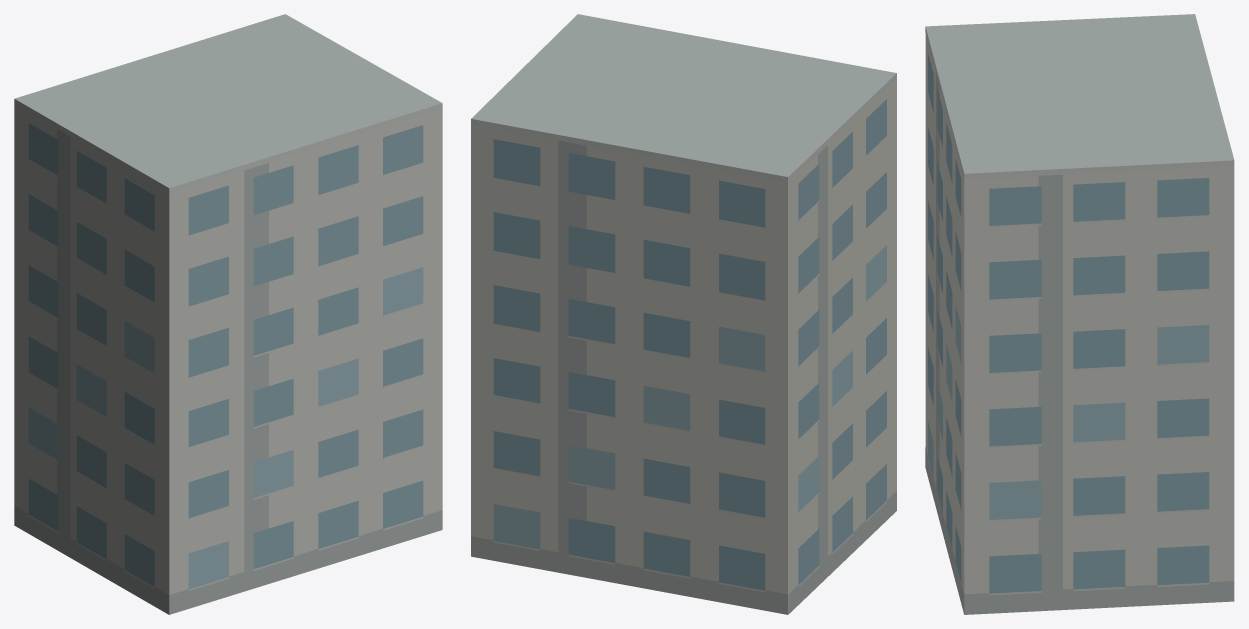
Rendered from survey-upis-32953114.glb.
The picture shows the model from 3 angles, left to right: view 1: azimuth 30°, elevation 25°; view 2: azimuth 150°, elevation 25°; view 3: azimuth 270°, elevation 25°; orthographic projection. The views are drawn at different scales.
Visible parts, largest first — view 1: survey-upis-32953114.tmp; view 2: survey-upis-32953114.tmp; view 3: survey-upis-32953114.tmp.
Part boxes in pixels (x1,y1,x2,y2): survey-upis-32953114.tmp: (14,14,442,614); survey-upis-32953114.tmp: (471,14,896,614); survey-upis-32953114.tmp: (925,14,1234,614).
Size of the model in its own units: 14.38 by 18.5 by 11.75.
